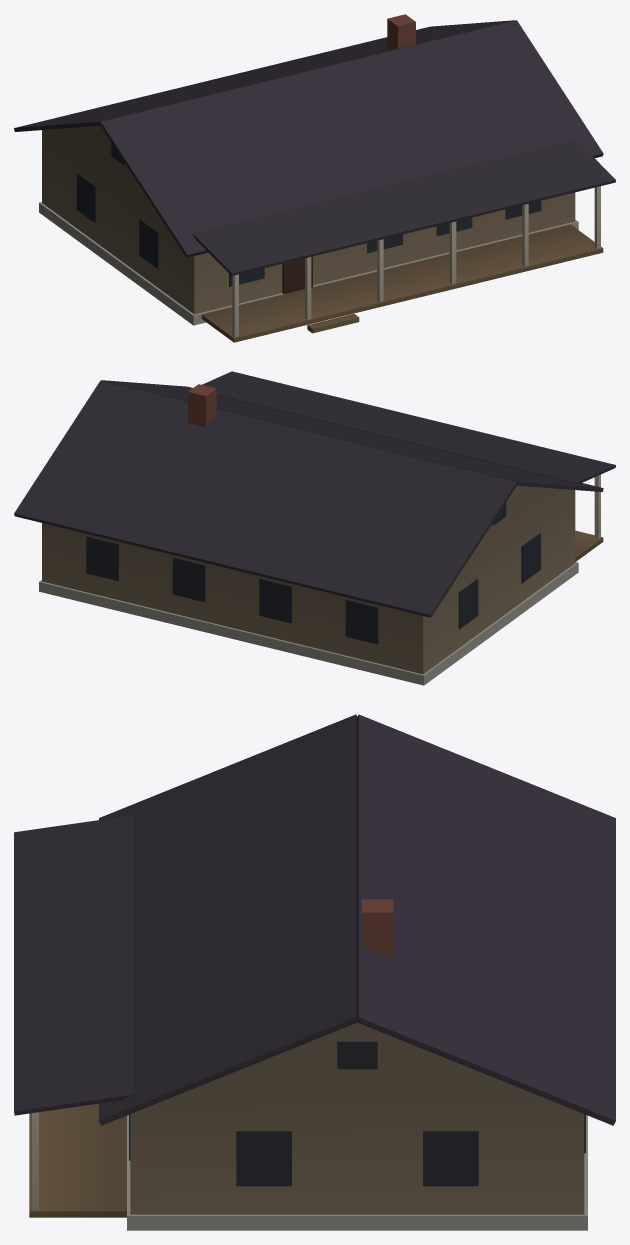
The model's file is shell_wormwood_bungalow_lod1.glb.
The picture shows the model from 3 angles, top to bottom: view 1: azimuth 30°, elevation 25°; view 2: azimuth 150°, elevation 25°; view 3: azimuth 270°, elevation 25°; orthographic projection. The views are drawn at different scales.
Parts seen in each view (by area): view 1: shell_wormwood_bungalow_lod1; view 2: shell_wormwood_bungalow_lod1; view 3: shell_wormwood_bungalow_lod1.
Boxes of the visible parts, box(x1,y1,x2,y2) form: shell_wormwood_bungalow_lod1: box(14, 14, 615, 342); shell_wormwood_bungalow_lod1: box(14, 371, 615, 685); shell_wormwood_bungalow_lod1: box(14, 714, 615, 1230).
Bounding box in the file's own units: 14.2 × 5.62 × 11.93.
